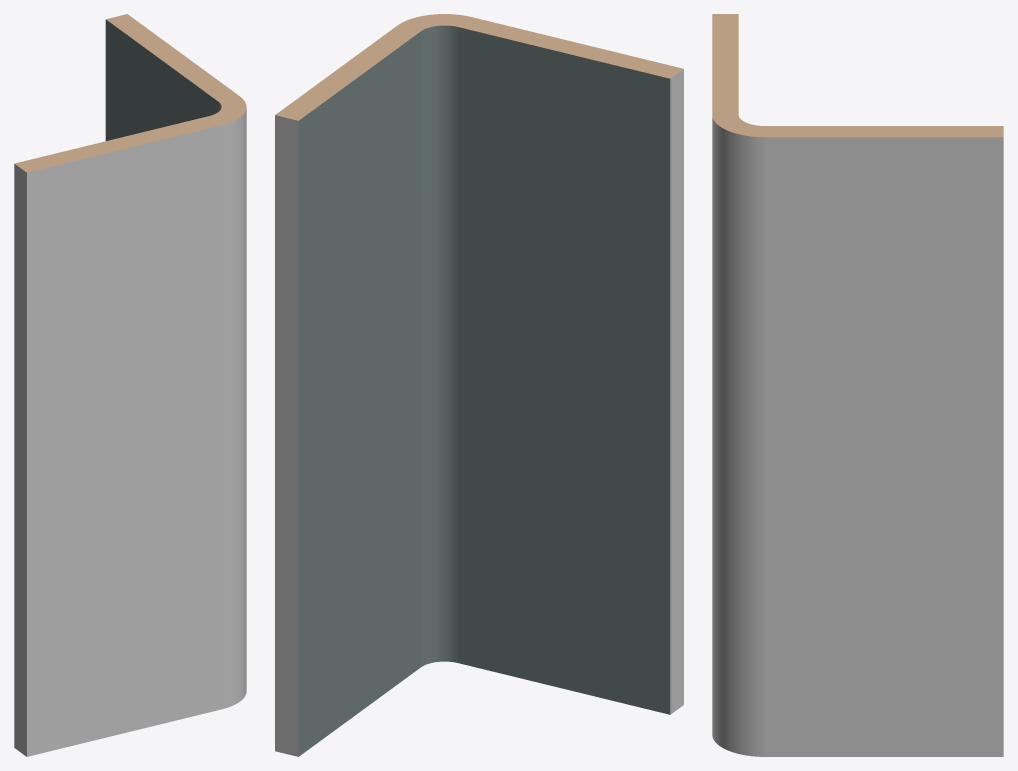
The model's file is wallCornerRond.glb.
3 renders of one model, left to right at view 1: azimuth 30°, elevation 25°; view 2: azimuth 150°, elevation 25°; view 3: azimuth 270°, elevation 25°, orthographic. The views are drawn at different scales.
Parts seen in each view (by area): view 1: wallCornerRond; view 2: wallCornerRond; view 3: wallCornerRond.
Boxes of the visible parts, bbox=[...] form: wallCornerRond: bbox=[14, 14, 246, 756]; wallCornerRond: bbox=[275, 14, 683, 756]; wallCornerRond: bbox=[712, 14, 1003, 756].
Bounding box in the file's own units: 0.55 × 1.29 × 0.55.
